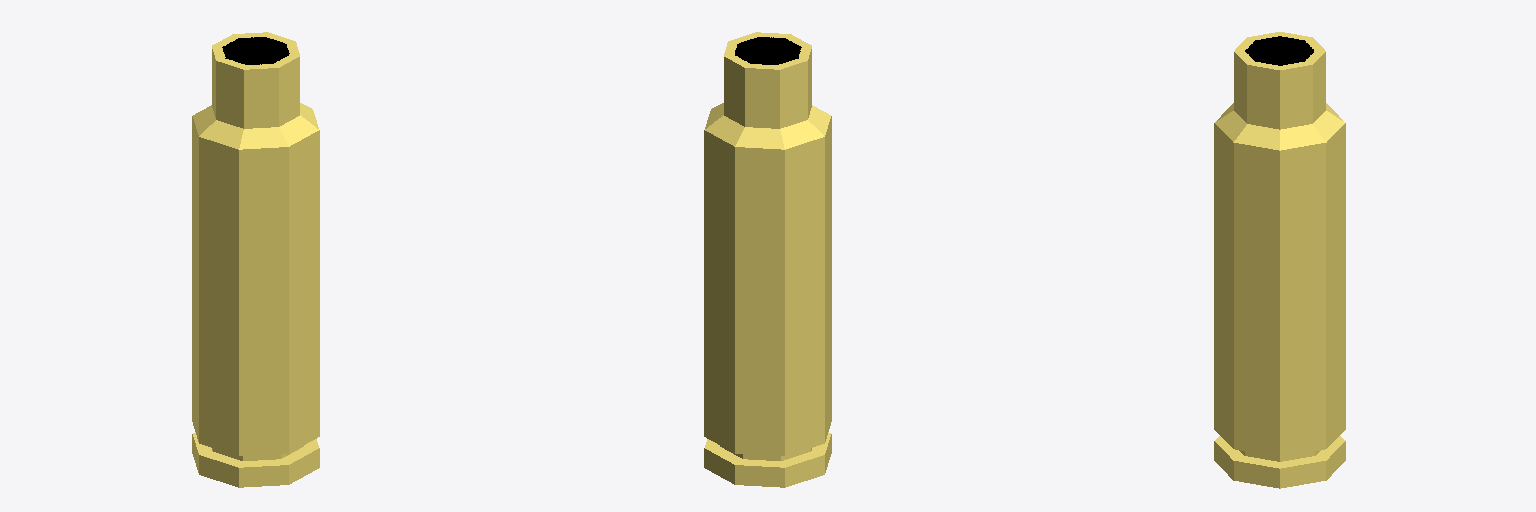
3 views of the same model, side by side, from view 1: azimuth 30°, elevation 25°; view 2: azimuth 150°, elevation 25°; view 3: azimuth 270°, elevation 25° (orthographic).
Parts seen in each view (by area): view 1: BulletCase_MachineGun; view 2: BulletCase_MachineGun; view 3: BulletCase_MachineGun.
Part boxes in pixels (x1,y1,x2,y2): BulletCase_MachineGun: (192,32,319,487); BulletCase_MachineGun: (704,32,831,487); BulletCase_MachineGun: (1214,32,1345,488).
Size of the model in its own units: 0.125 by 0.43 by 0.125.
1 materials, 1 textured.